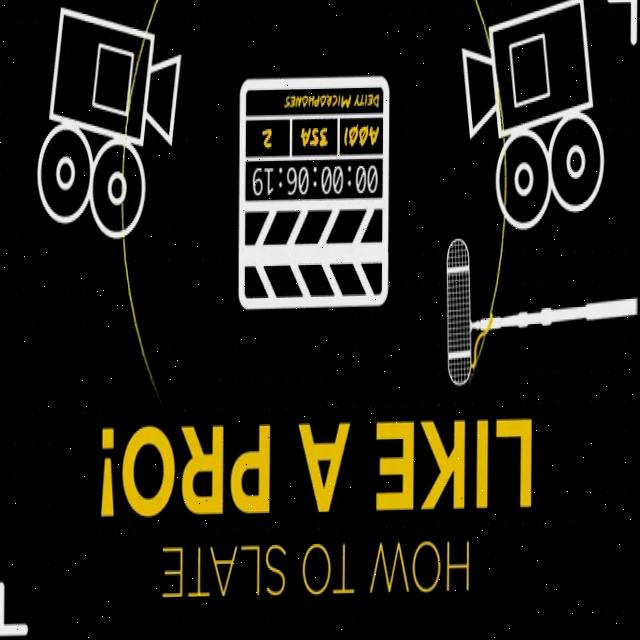Clapperboard: (240, 80, 390, 309)
